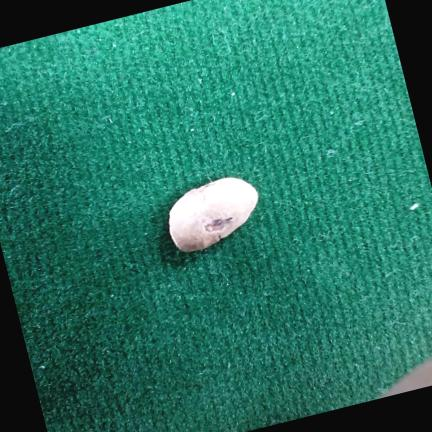shell: (168, 177, 257, 251)
